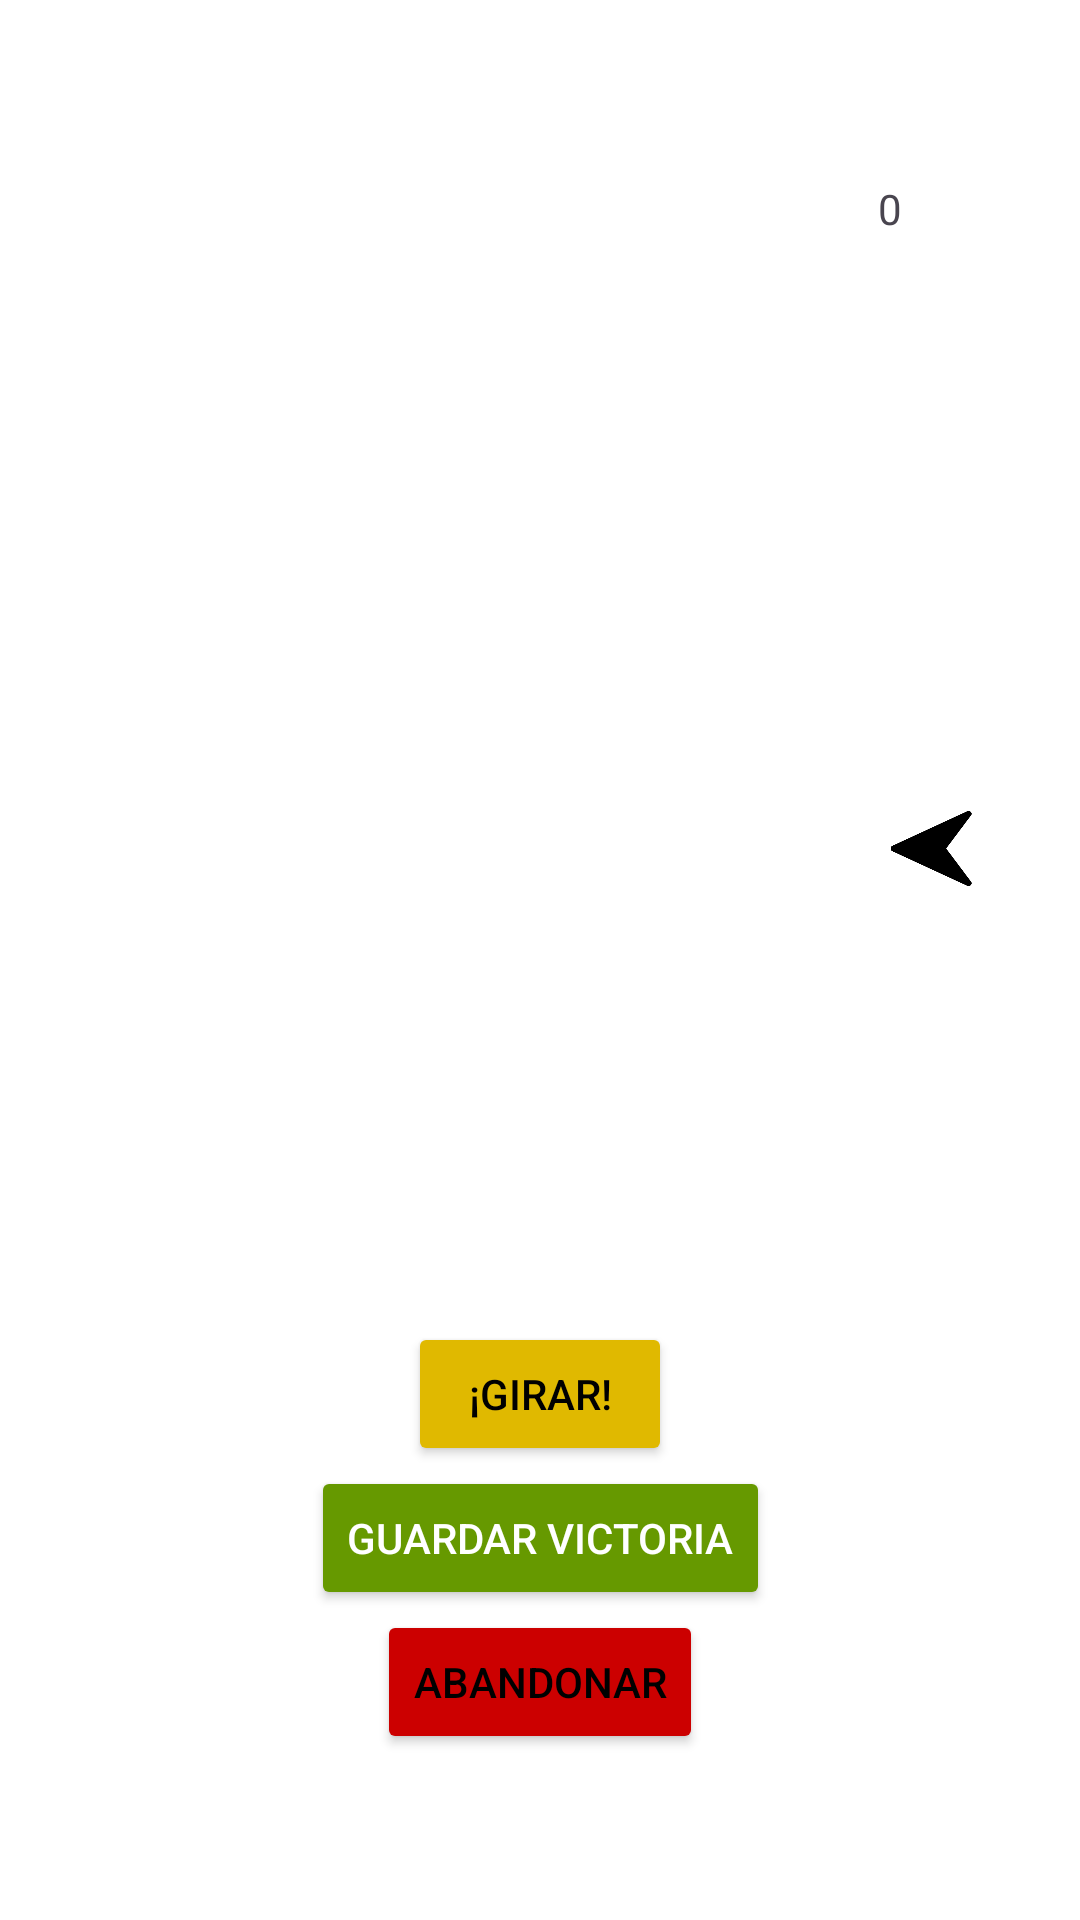

Point at icon controls on the screen. Image size 1080x1920, points as [x,y].
arrow: [931,848]
